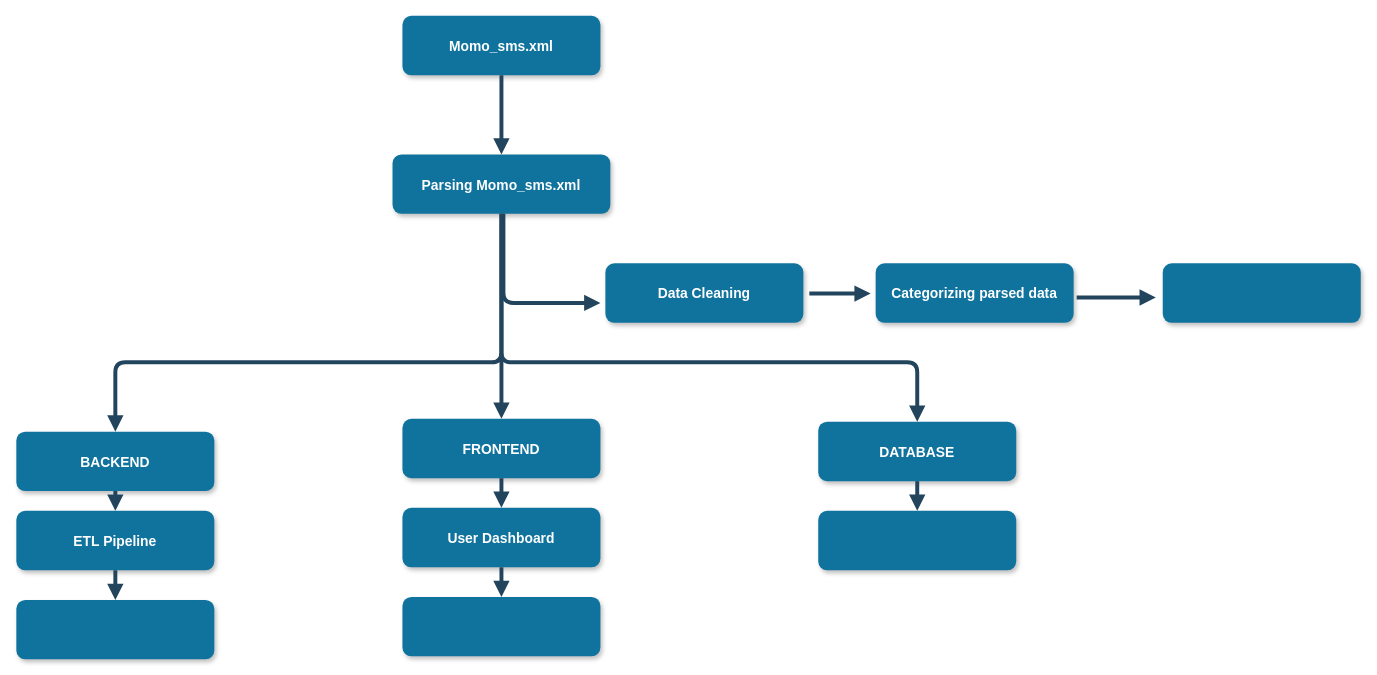
This 1377x675 diagram has some shape labels left out. Each missing label, with the centre of its shape:
Categorized Tables: the point at 918,541
Process JSON: the point at 116,630
SMS Report Chart: the point at 502,628
Store parsed data: the point at 1262,294
